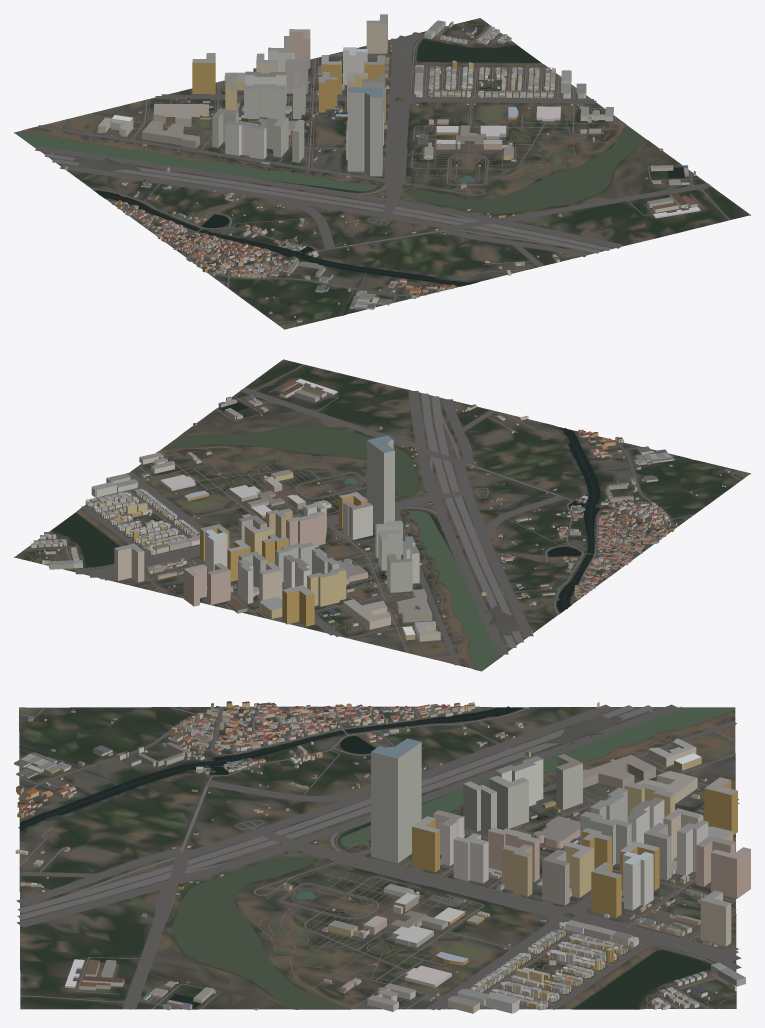
3 views of the same model, one above another, from view 1: azimuth 30°, elevation 25°; view 2: azimuth 150°, elevation 25°; view 3: azimuth 270°, elevation 25° (orthographic). The views are drawn at different scales.
Visible parts, largest first — view 1: ground, buildings, roads, water; view 2: ground, buildings, roads, water; view 3: ground, buildings, roads, water.
Boxes of the visible parts, box(x1,y1,x2,y2) form: ground: box(14, 18, 750, 329); buildings: box(65, 14, 700, 322); roads: box(29, 22, 729, 326); water: box(15, 40, 684, 315); ground: box(14, 359, 750, 671); buildings: box(31, 378, 730, 641); roads: box(20, 364, 741, 667); water: box(51, 402, 691, 670); ground: box(19, 706, 736, 1009); buildings: box(14, 701, 750, 1013); roads: box(16, 704, 741, 1009); water: box(18, 706, 734, 1009).
Bounding box in the file's own units: 1431 × 230 × 1442.
